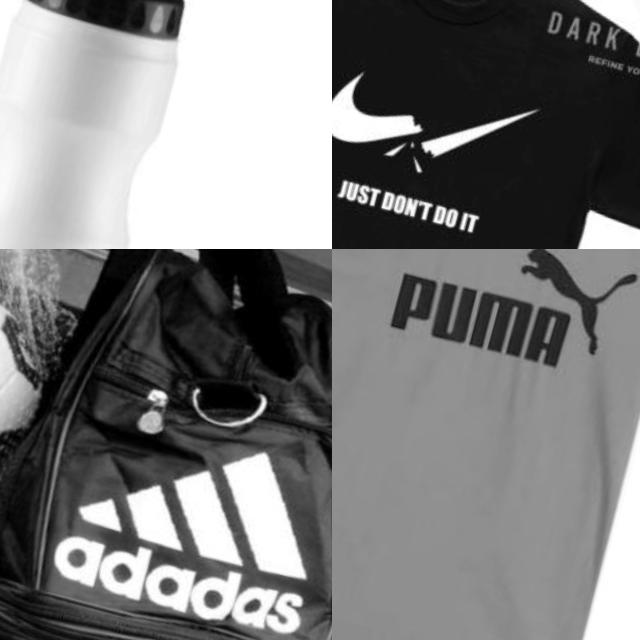ADIDAS_fake: (46, 396, 332, 640), (62, 394, 332, 595)
NIKE_fake: (332, 39, 554, 249)
PUMA_original: (381, 249, 640, 398)
